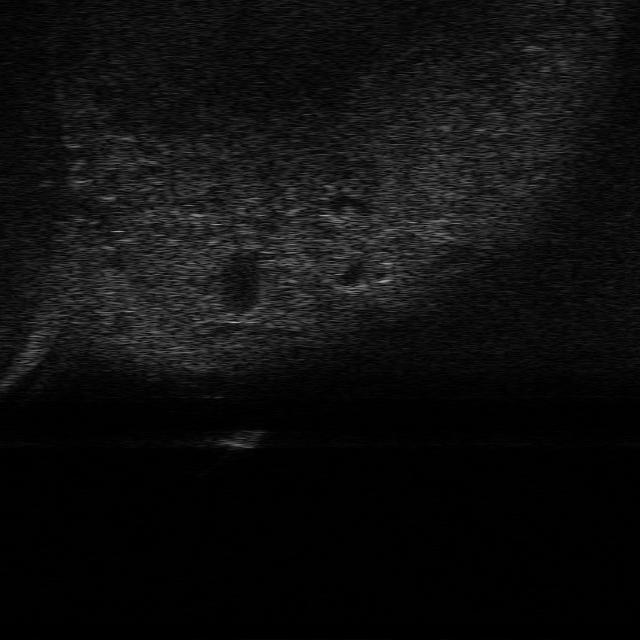cube: (222, 426, 262, 449)
